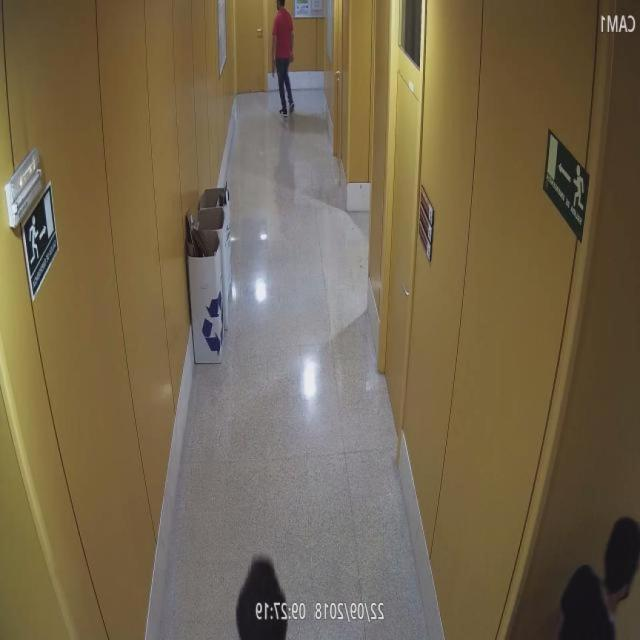pistol: (269, 55, 278, 78)
